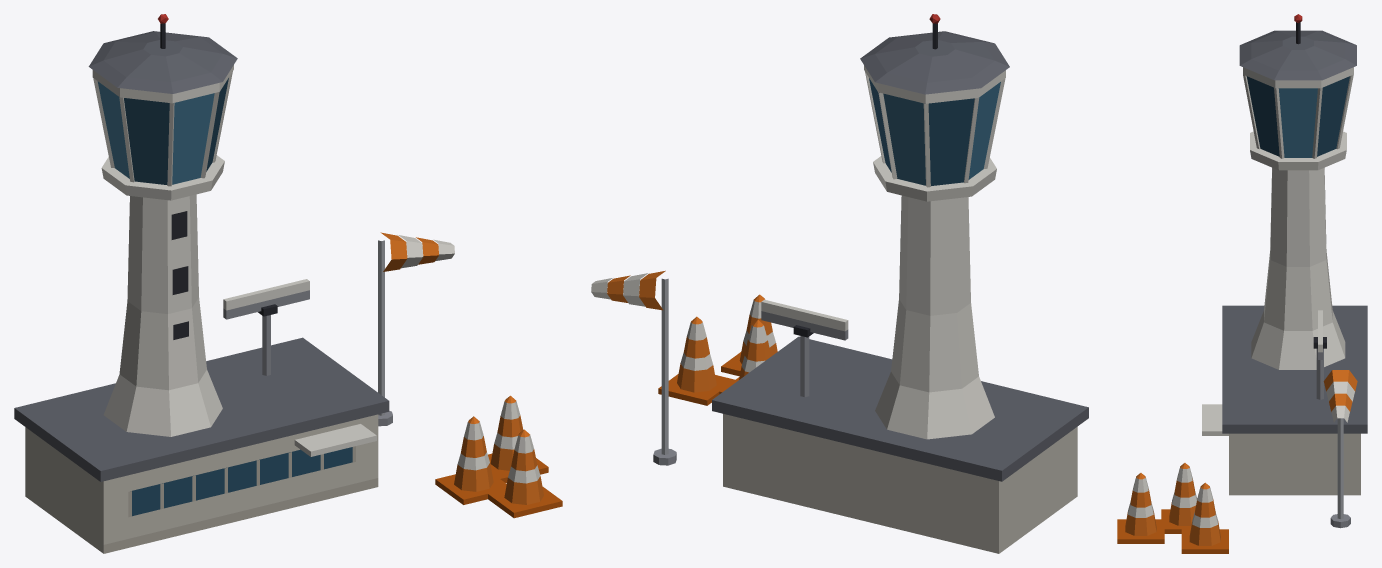
The model's file is special-control.glb.
3 views of the same model, side by side, from view 1: azimuth 30°, elevation 25°; view 2: azimuth 150°, elevation 25°; view 3: azimuth 270°, elevation 25° (orthographic). The views are drawn at different scales.
Visible parts, largest first — view 1: special-control; view 2: special-control; view 3: special-control.
Boxes of the visible parts, x1,y1,x2,y2 form: special-control: (14,14,562,553); special-control: (591,14,1088,553); special-control: (1117,14,1367,553).
Size of the model in its own units: 2.29 by 2.5 by 1.39.
